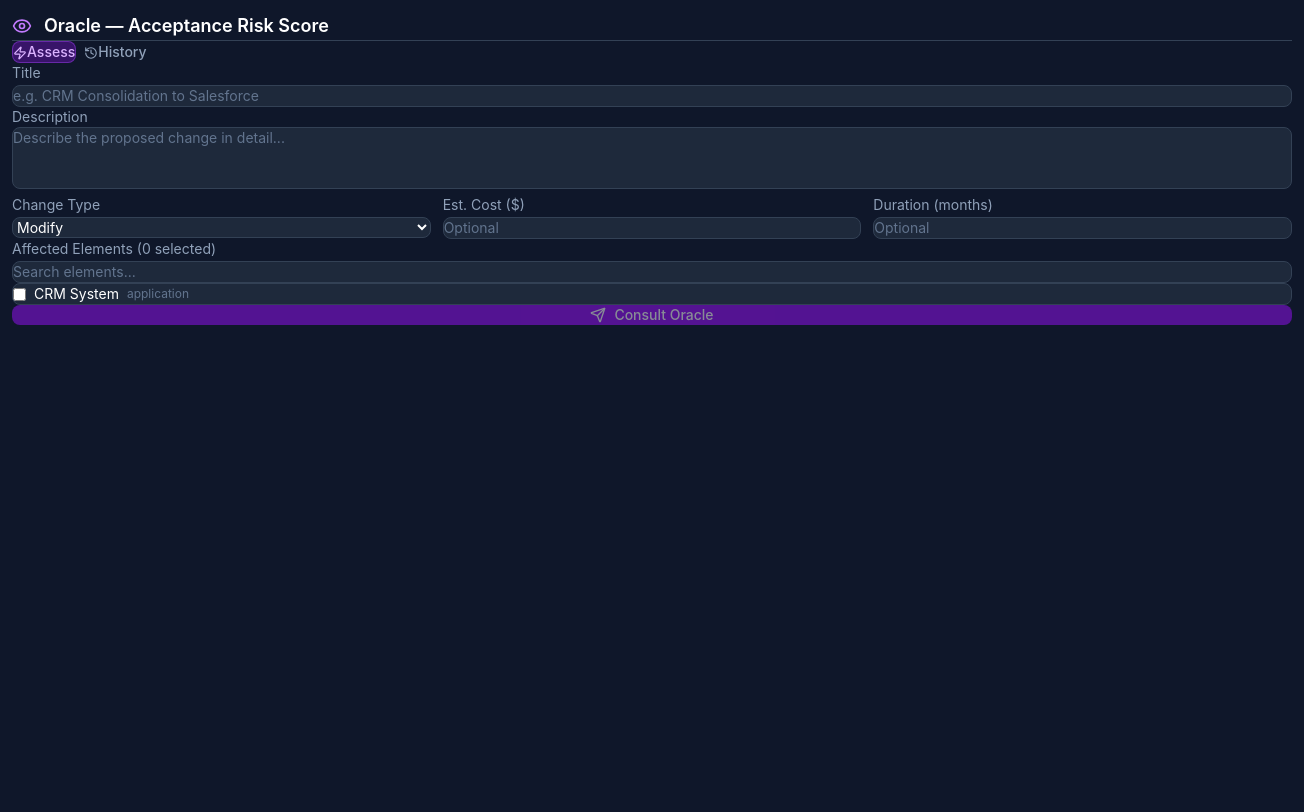
it: OraclePanel — Evidence / Audit section (THE-423 Task 15) › 404 / missing audit: graceful "no audit trace available" note, no crash
Type "Test Proposal" into the field with placeholder "e.g. CRM Consolidation to Salesforce" at (652, 96), box [12,85,1292,107]
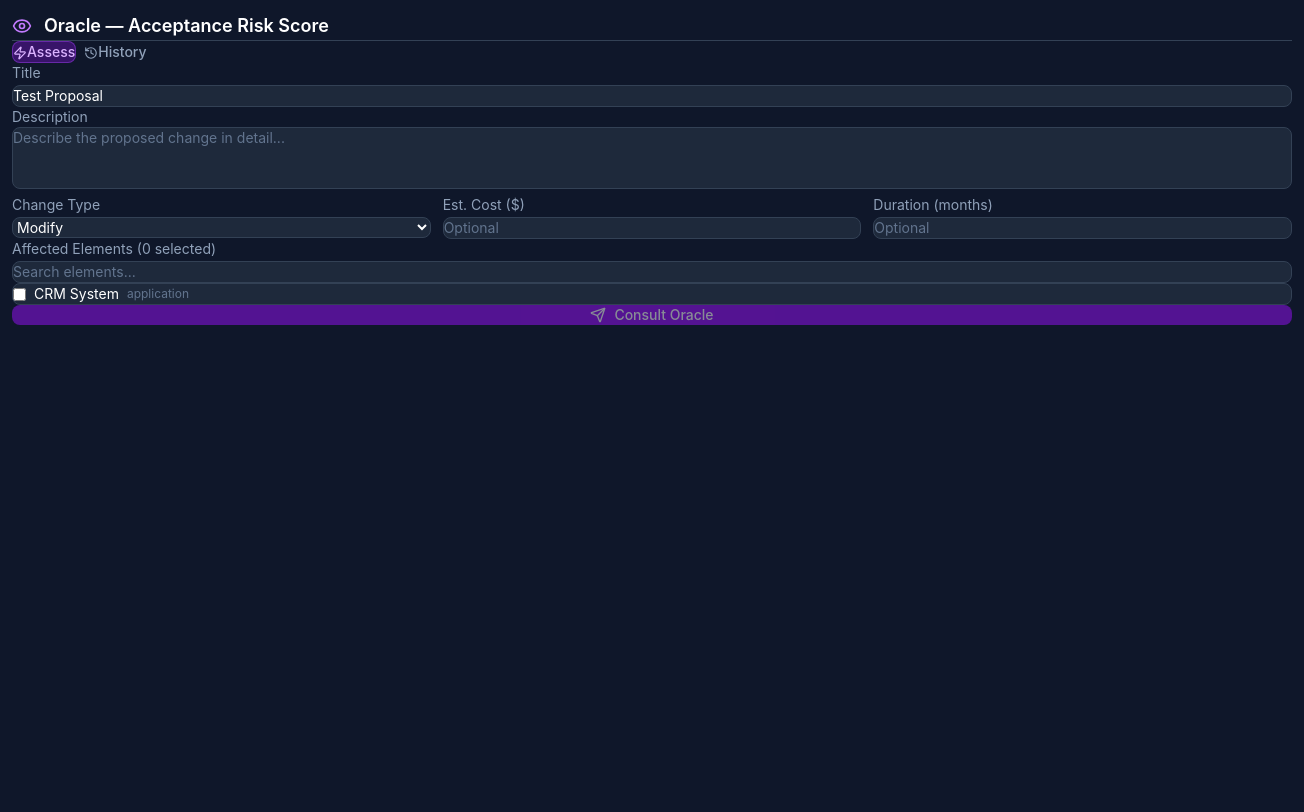
Type "A description long enough." into the text box with placeholder "Describe the proposed change in detail..." at (652, 158), box [12,127,1292,189]
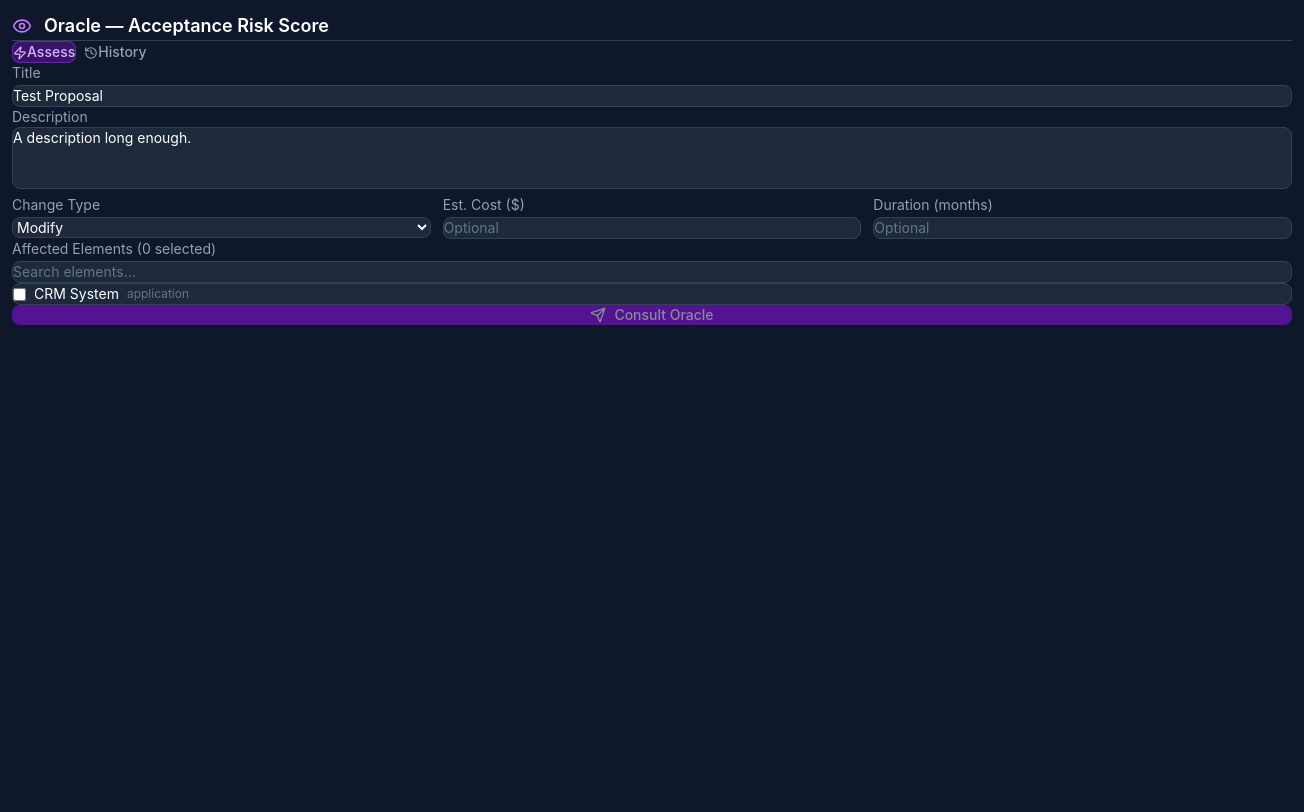
Click the text "CRM System" at (76, 294), box [34,284,119,304]
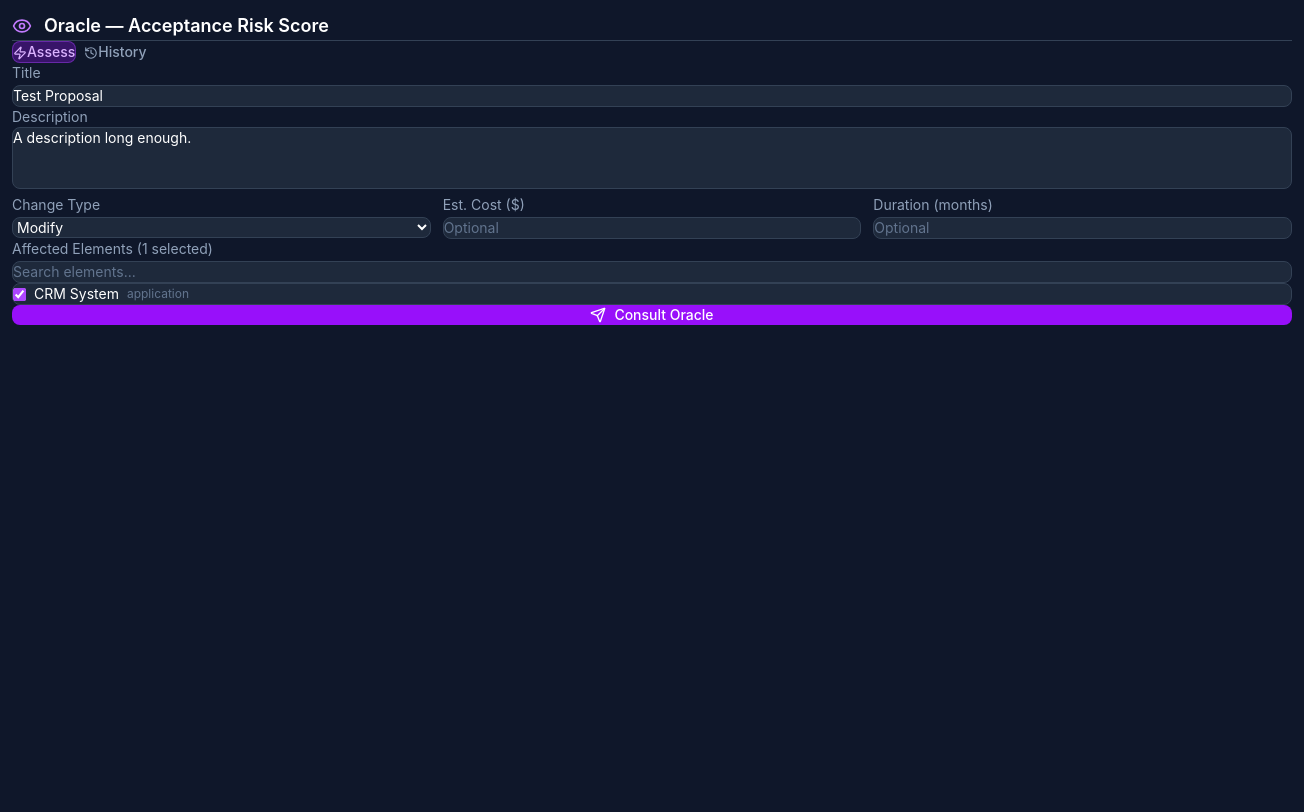
Click the button "Consult Oracle" at (652, 315), box [12,305,1292,325]
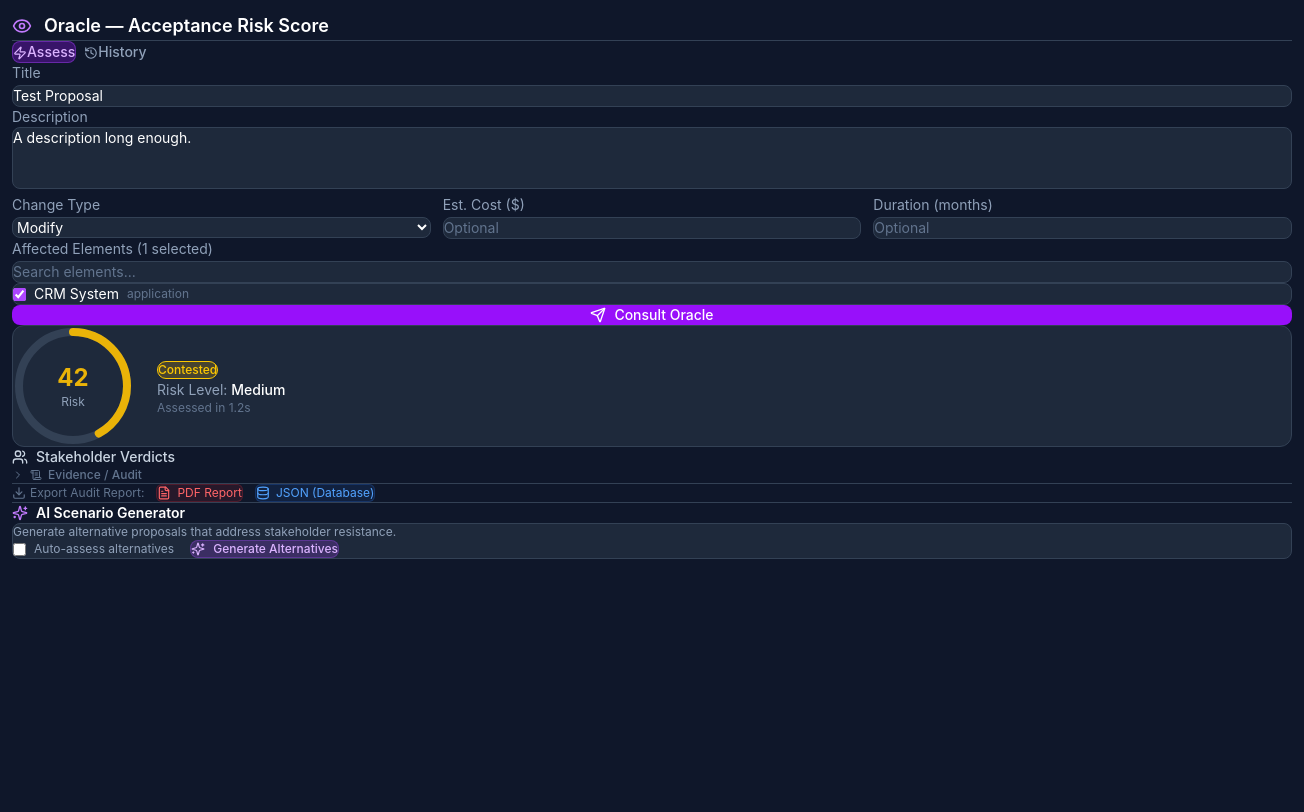
Click the button "Evidence / Audit" at (77, 475), box [12,467,142,483]
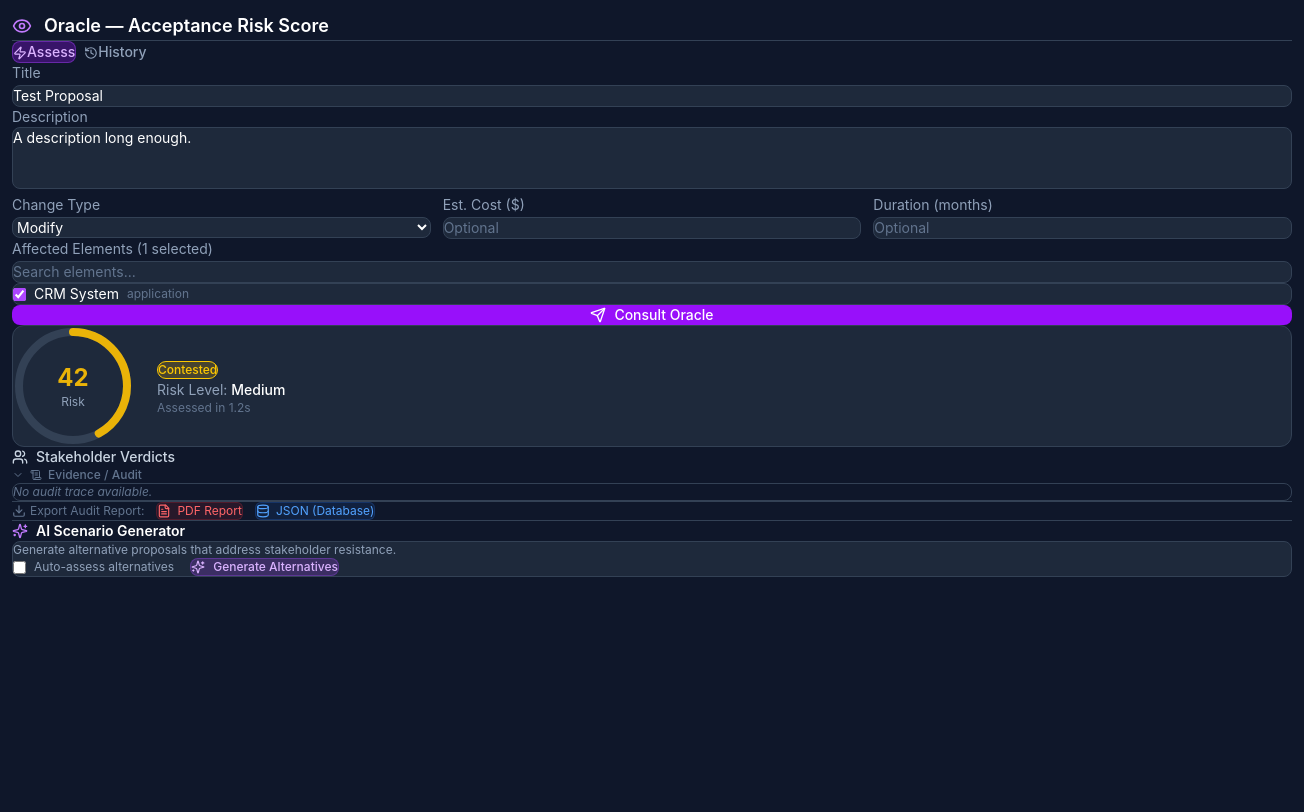
Now the heading "Stakeholder Verdicts" is shown, box [12,448,175,465]
Now the text "No audit trace available." is shown, box [13,484,152,499]
